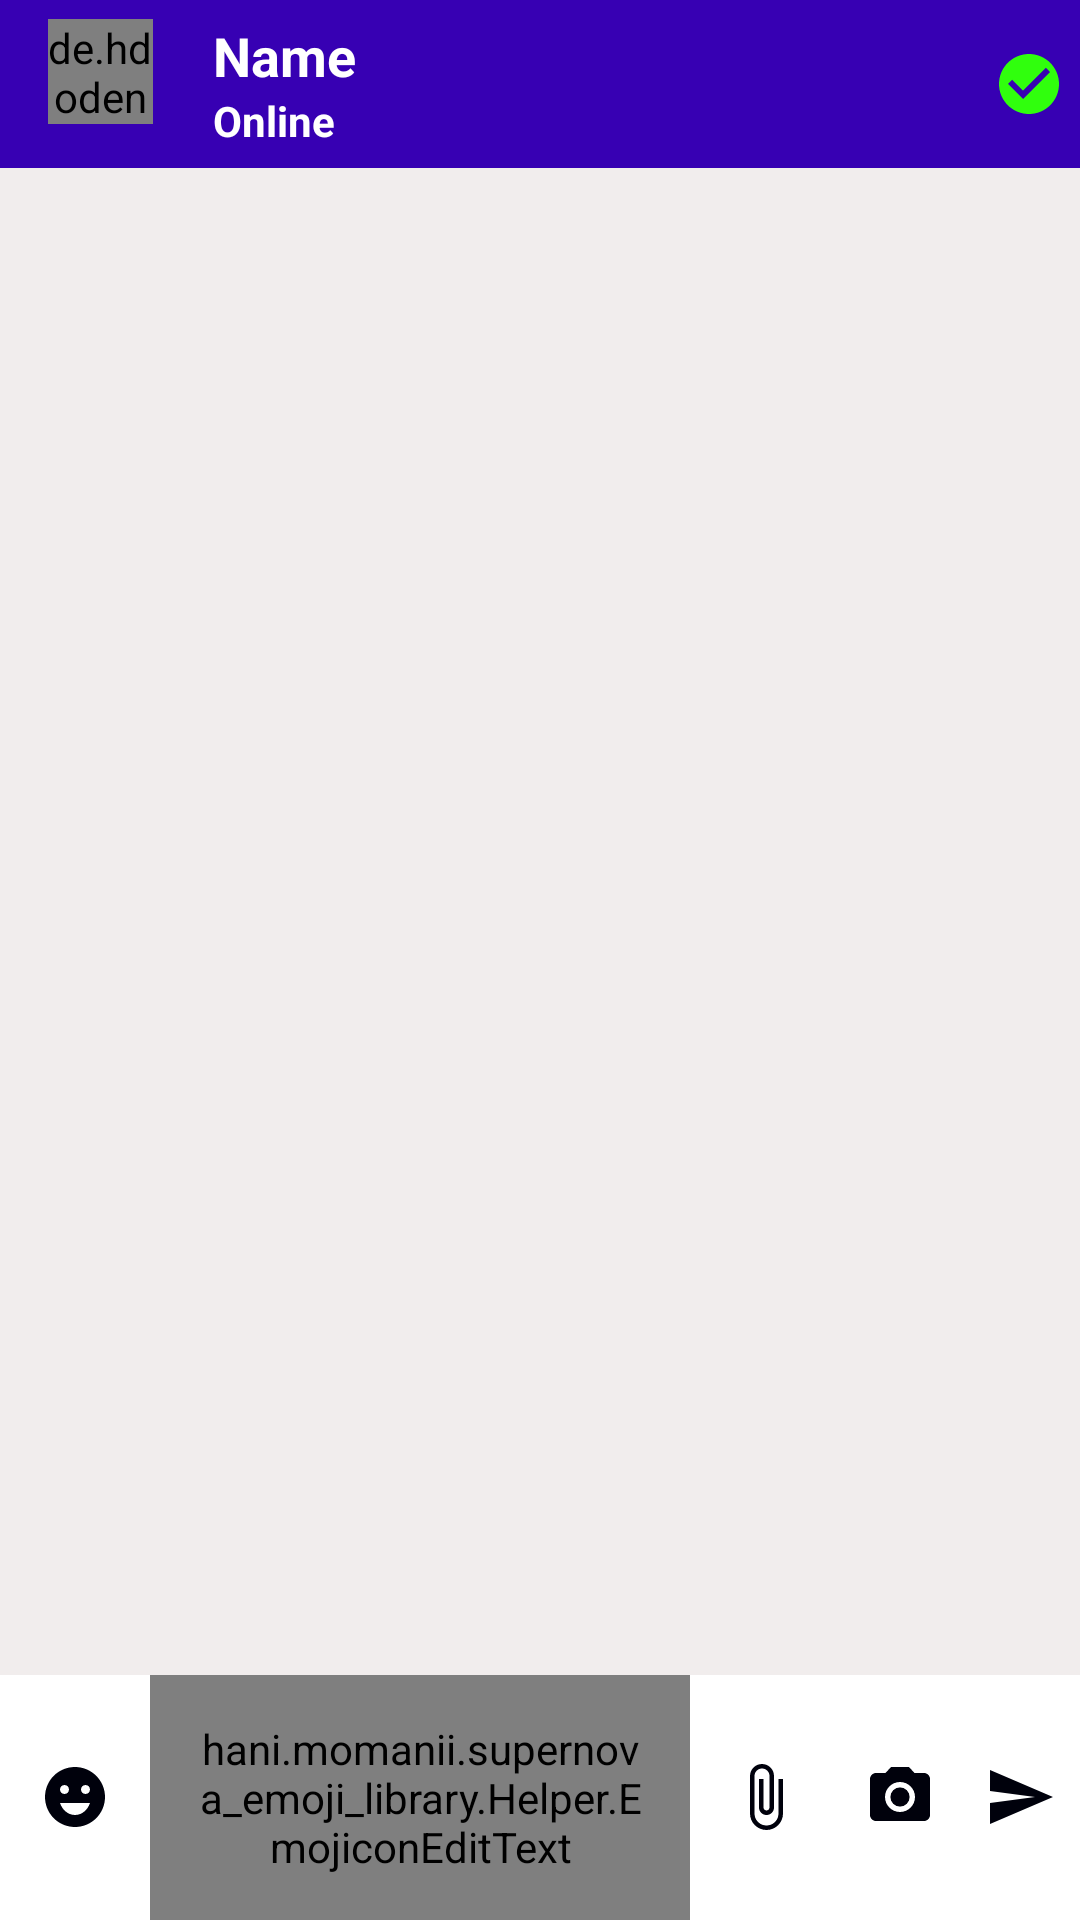

Icon bounding boxes for this 1080*1920 phone screenshot, format (x1, y1, x2, y2):
attach file: (750, 1764, 783, 1830)
camera: (870, 1767, 930, 1821)
emoji emotions: (45, 1767, 105, 1827)
send: (990, 1770, 1053, 1824)
